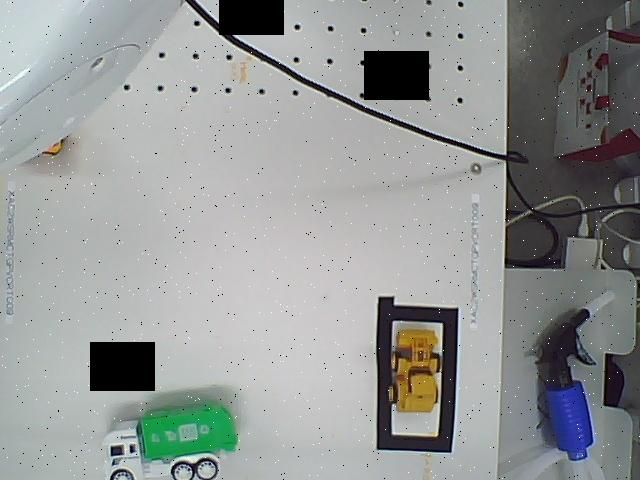Electric car: (96, 403, 241, 480)
Gasoline car: (387, 323, 447, 415)
